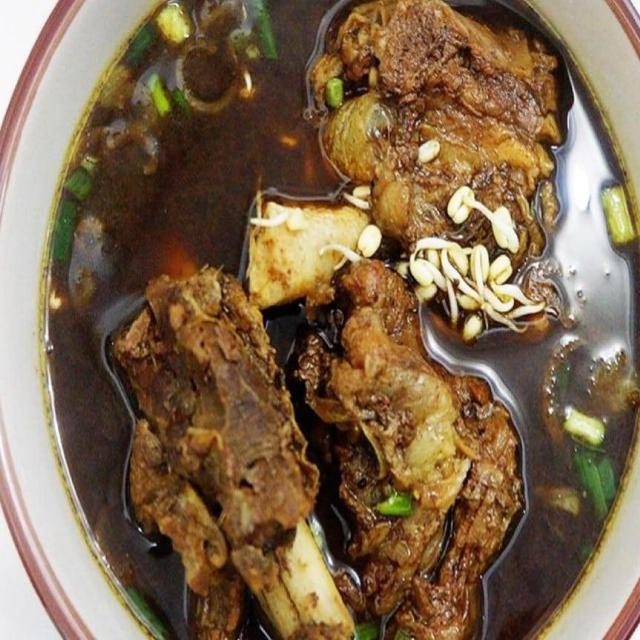Rawon: (85, 13, 616, 616)
